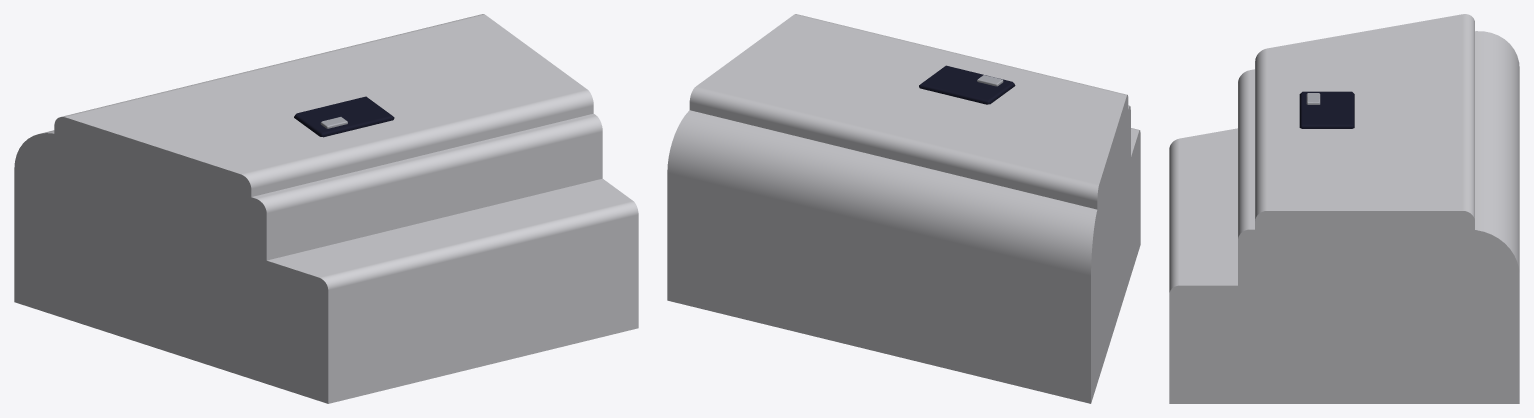
File: roof.shoulder.slope1.vent.s1.c22.5_0.glb
3 views of the same model, side by side, from view 1: azimuth 30°, elevation 25°; view 2: azimuth 150°, elevation 25°; view 3: azimuth 270°, elevation 25° (orthographic). The views are drawn at different scales.
Parts seen in each view (by area): view 1: roof.shoulder.slope1.vent.s1.c22.5_0; view 2: roof.shoulder.slope1.vent.s1.c22.5_0; view 3: roof.shoulder.slope1.vent.s1.c22.5_0.
Boxes of the visible parts, x1=… form: roof.shoulder.slope1.vent.s1.c22.5_0: x1=14, y1=14, x2=638, y2=403; roof.shoulder.slope1.vent.s1.c22.5_0: x1=667, y1=14, x2=1140, y2=403; roof.shoulder.slope1.vent.s1.c22.5_0: x1=1169, y1=14, x2=1519, y2=403.
Bounding box in the file's own units: 1.42 × 0.64 × 1.02.
